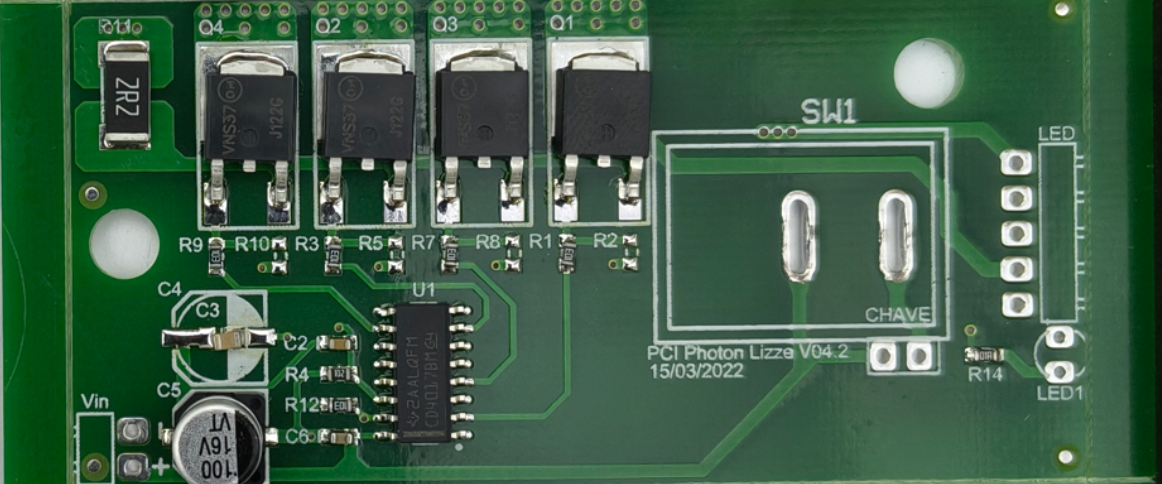C+: (315, 332, 356, 359), (314, 426, 361, 449)
R+: (961, 341, 1005, 368), (436, 233, 461, 276), (317, 363, 361, 385), (558, 232, 579, 277), (205, 234, 225, 278), (327, 230, 345, 276), (318, 395, 359, 415)
R/CFaltante: (498, 227, 528, 277), (615, 229, 641, 273), (385, 233, 409, 280), (270, 235, 293, 276)
U+: (372, 297, 477, 458)
